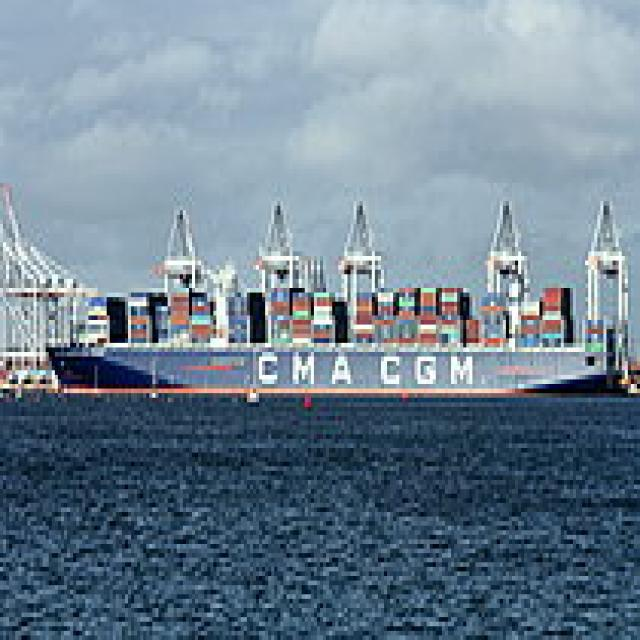Ship: (44, 216, 620, 422)
